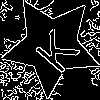K: (26, 21, 81, 76)
